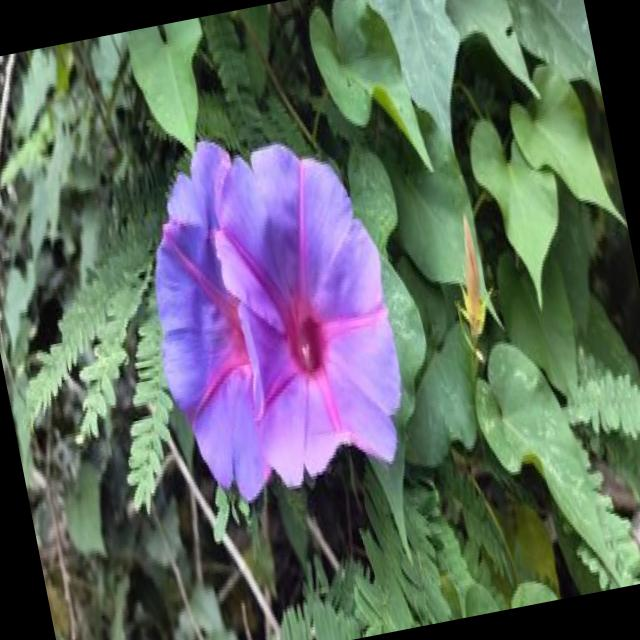ipomoea: (119, 107, 426, 520)
